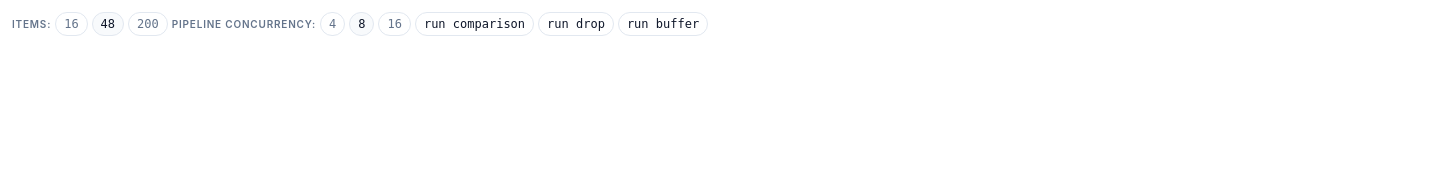
Test: ReactiveCompareDemo › paints both model runs: thread shapes, wall time, shared checksum, reading lines
Click the button with test id "reactive-run-compare" at (474, 24), box x1=415 y1=12 x2=534 y2=36
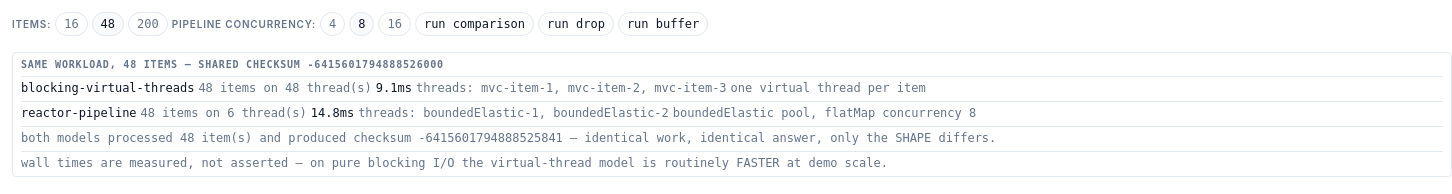
Now the element with test id "reactive-compare-report" shows "same workload, 48 items"
Now the element with test id "reactive-compare-report" shows "checksum -6415601794888525841", box x1=21 y1=131 x2=996 y2=145
Now the number of elements with test id "reactive-model" is 2, box x1=21 y1=76 x2=1443 y2=97; x1=21 y1=101 x2=1443 y2=122
